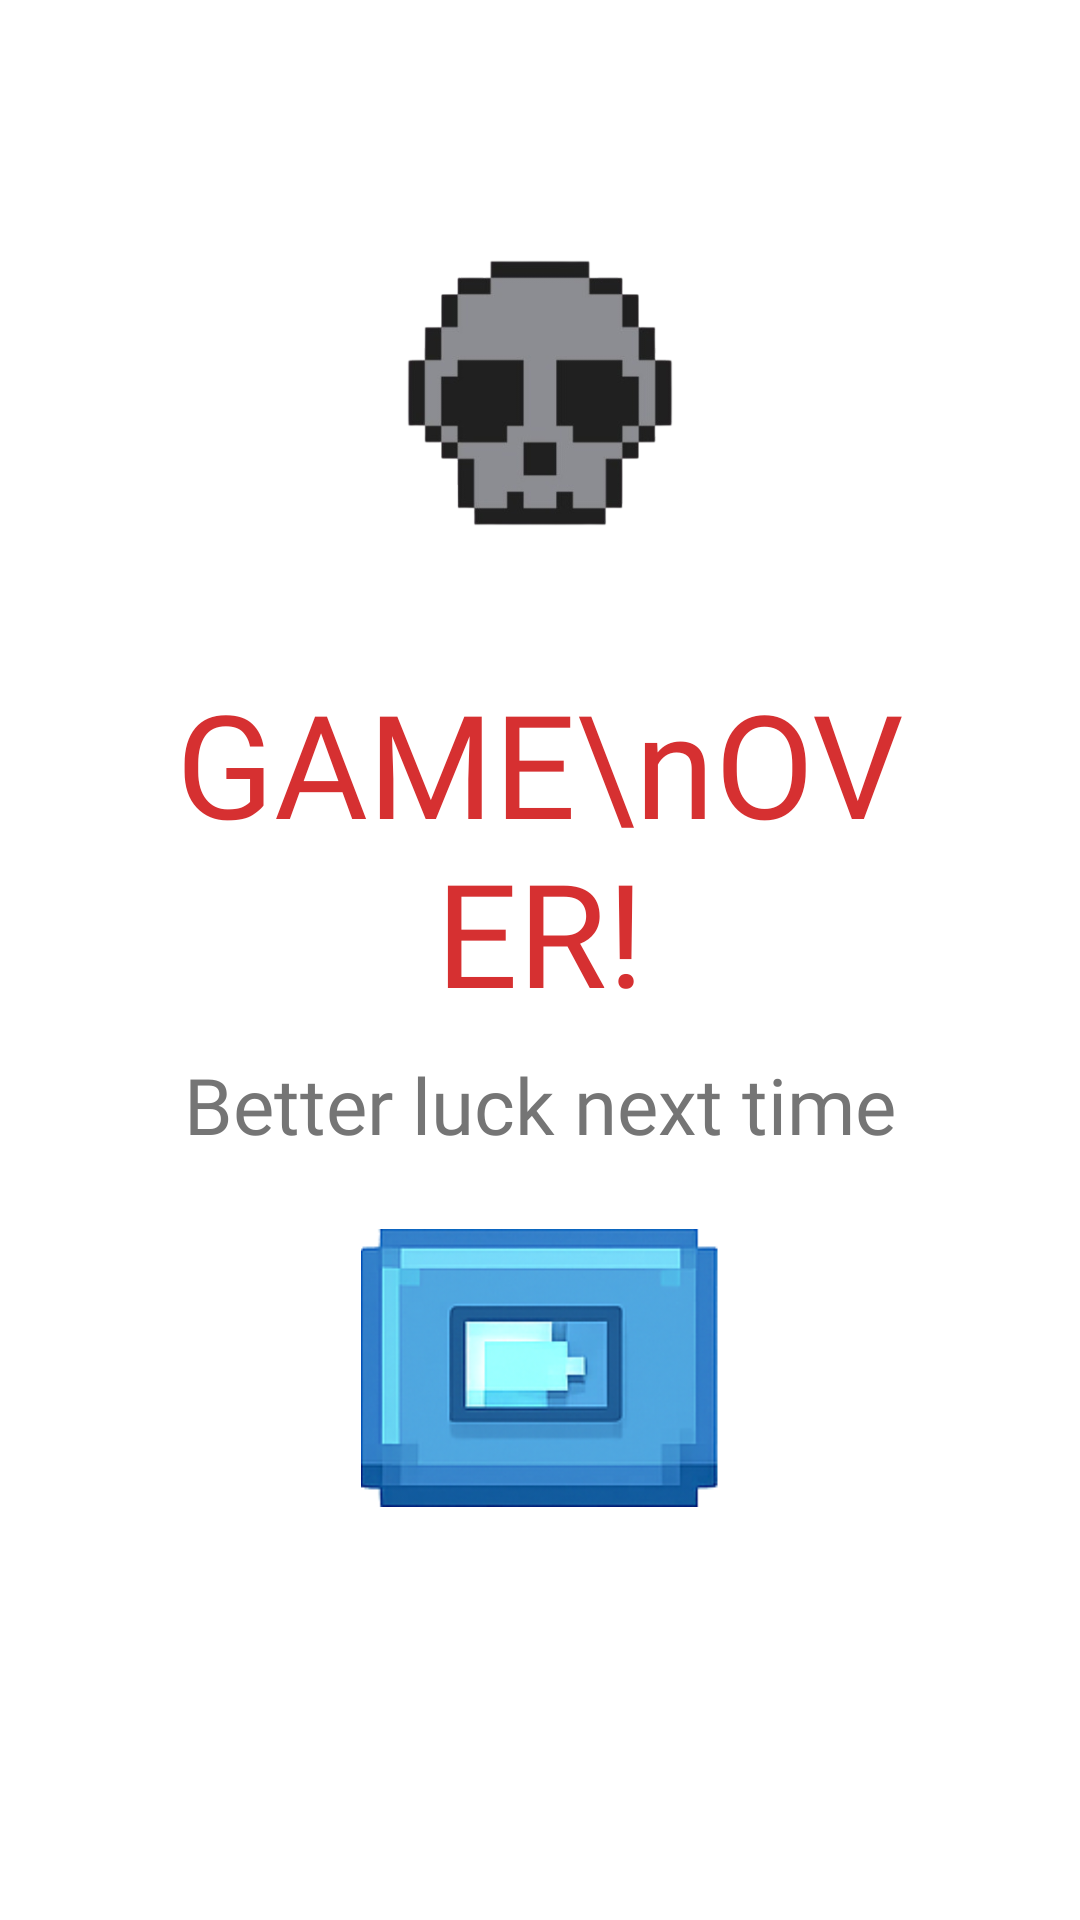

Icons on this 1080px x 1920px Android screen, each with the point to tap as (x,y):
Continue: (539,1368)
Skull: (540,393)
